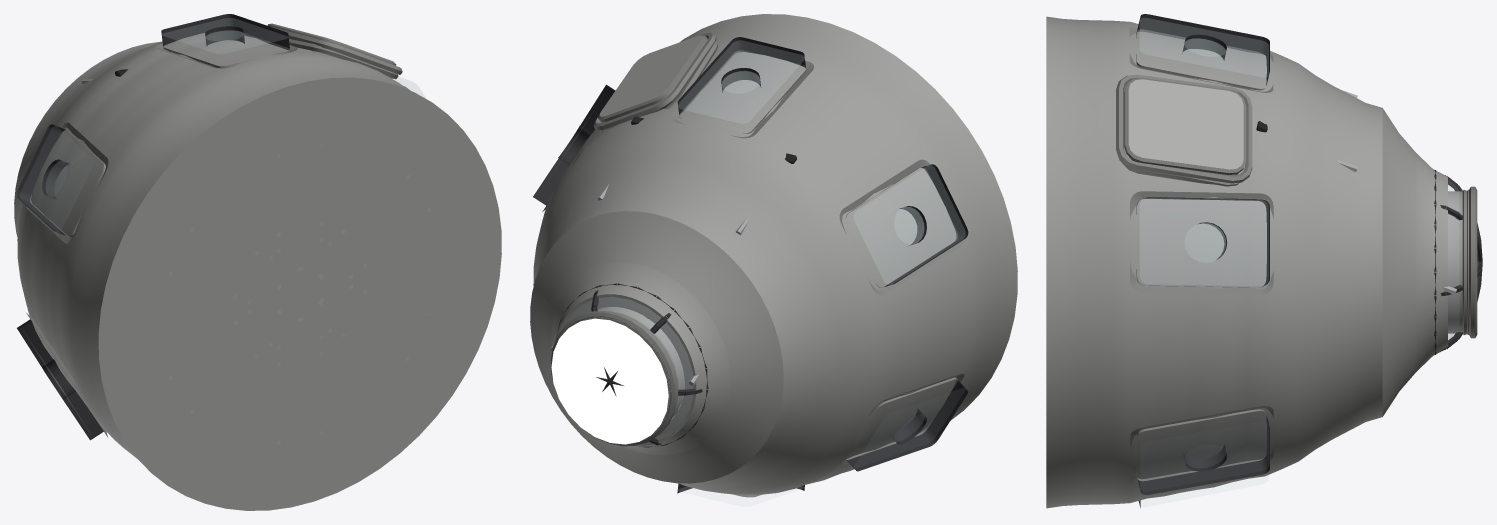
The model's file is newshepard.glb.
3 views of the same model, side by side, from view 1: azimuth 30°, elevation 25°; view 2: azimuth 150°, elevation 25°; view 3: azimuth 270°, elevation 25° (orthographic). The views are drawn at different scales.
Visible parts, largest first — view 1: shell_cupola, glass_panoramic1, frame_panoramic0, glass_panoramic0, frame_panoramic1, frame_panoramic2, shell_panoramic, hatchframe_inward, hatchframe_side, frame_small2, frame_small0, shell_small (+1 smaller); view 2: shell_cupola, shell_panoramic, plug_top, glass_panoramic1, glass_panoramic0, door_inward, glass_panoramic2, frame_panoramic2, frame_panoramic0, glass_cupola, frame_panoramic1, hatchframe_top (+10 smaller); view 3: shell_cupola, glass_panoramic5, door_inward, shell_panoramic, glass_panoramic4, glass_panoramic0, frame_panoramic4, frame_panoramic0, docking, frame_panoramic5, hatchframe_inward, glass_cupola (+10 smaller).
Part boxes in pixels (x1=…): shell_cupola: x1=14, y1=33, x2=501, y2=510; glass_panoramic1: x1=20, y1=126, x2=92, y2=231; frame_panoramic0: x1=155, y1=14, x2=297, y2=68; glass_panoramic0: x1=162, y1=18, x2=287, y2=53; frame_panoramic1: x1=16, y1=122, x2=108, y2=243; frame_panoramic2: x1=17, y1=313, x2=107, y2=440; shell_panoramic: x1=27, y1=47, x2=306, y2=370; hatchframe_inward: x1=271, y1=27, x2=402, y2=74; hatchframe_side: x1=289, y1=39, x2=398, y2=79; frame_small2: x1=42, y1=359, x2=75, y2=399; frame_small0: x1=205, y1=26, x2=244, y2=46; shell_small: x1=49, y1=38, x2=259, y2=370; shell_cupola: x1=530, y1=14, x2=1017, y2=494; shell_panoramic: x1=549, y1=49, x2=966, y2=494; plug_top: x1=551, y1=318, x2=668, y2=444; glass_panoramic1: x1=854, y1=165, x2=964, y2=284; glass_panoramic0: x1=678, y1=41, x2=804, y2=123; door_inward: x1=598, y1=35, x2=707, y2=122; glass_panoramic2: x1=854, y1=388, x2=964, y2=467; frame_panoramic2: x1=839, y1=373, x2=968, y2=471; frame_panoramic0: x1=671, y1=37, x2=814, y2=138; glass_cupola: x1=564, y1=297, x2=693, y2=439; frame_panoramic1: x1=839, y1=159, x2=968, y2=295; hatchframe_top: x1=550, y1=311, x2=677, y2=446; shell_cupola: x1=1046, y1=16, x2=1416, y2=508; glass_panoramic5: x1=1140, y1=198, x2=1268, y2=285; door_inward: x1=1124, y1=78, x2=1246, y2=174; shell_panoramic: x1=1130, y1=24, x2=1447, y2=477; glass_panoramic4: x1=1140, y1=422, x2=1268, y2=490; glass_panoramic0: x1=1140, y1=18, x2=1268, y2=76; frame_panoramic4: x1=1130, y1=406, x2=1273, y2=494; frame_panoramic0: x1=1129, y1=14, x2=1273, y2=92; docking: x1=1448, y1=190, x2=1468, y2=334; frame_panoramic5: x1=1130, y1=191, x2=1273, y2=294; hatchframe_inward: x1=1116, y1=74, x2=1252, y2=183; glass_cupola: x1=1448, y1=180, x2=1478, y2=342.
Size of the model in its own units: 2.34 by 2.43 by 2.08.
